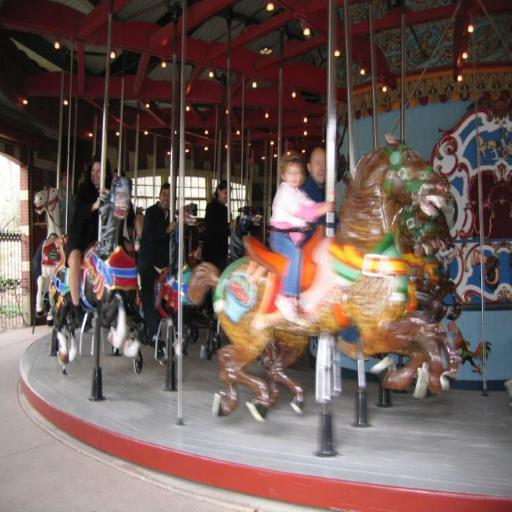horse: (210, 130, 452, 420), (260, 203, 461, 416), (54, 170, 148, 366), (130, 200, 200, 374), (192, 208, 266, 364), (424, 206, 464, 324), (30, 184, 62, 321)
